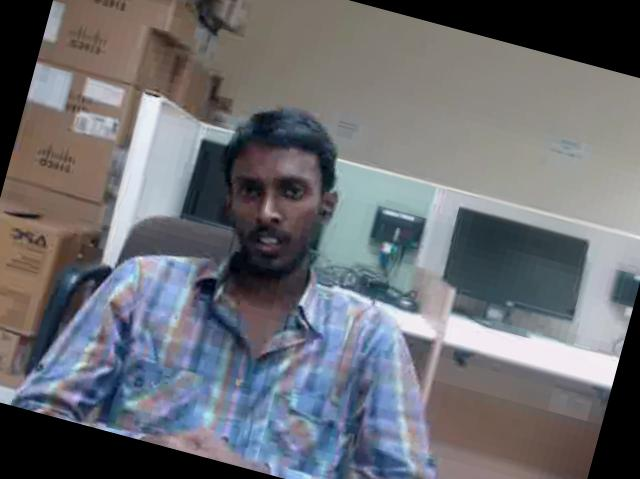bosan: (216, 131, 336, 272)
